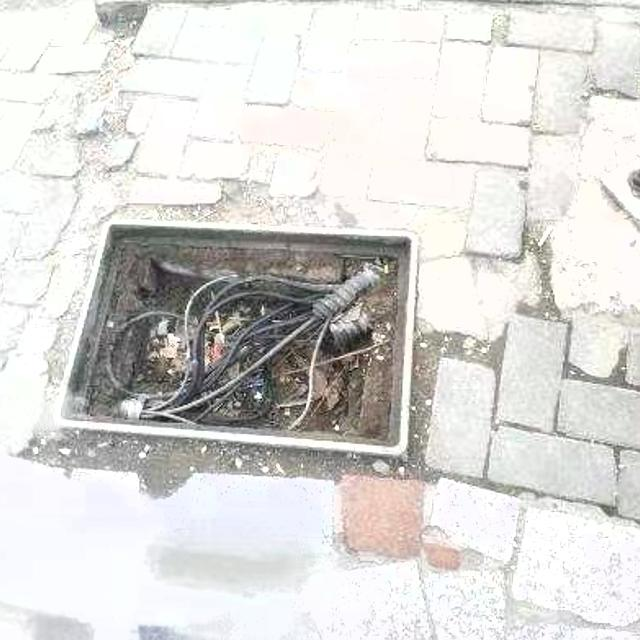lose: (82, 211, 418, 463)
